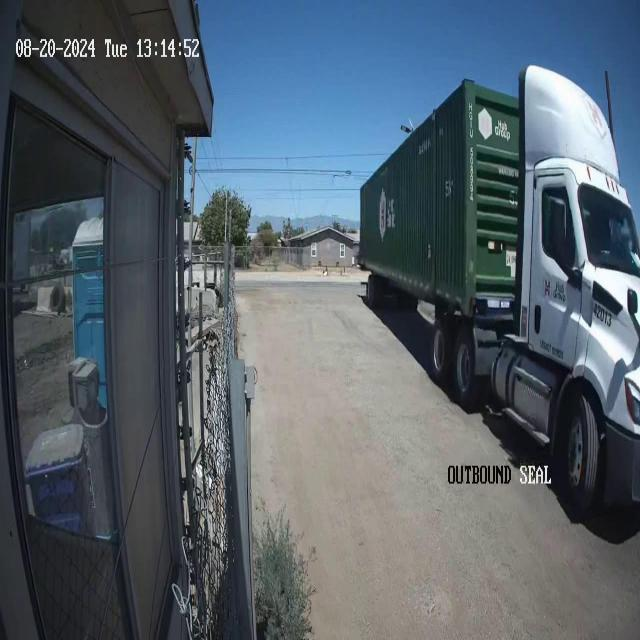TRUCK_IN: (357, 64, 639, 522)
